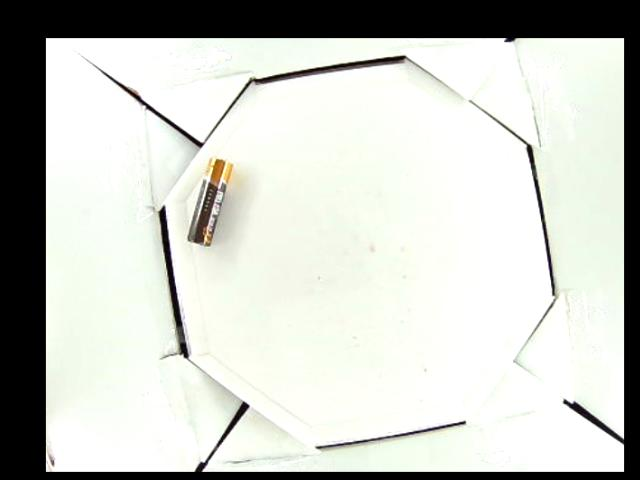Battery: (185, 156, 235, 244)
